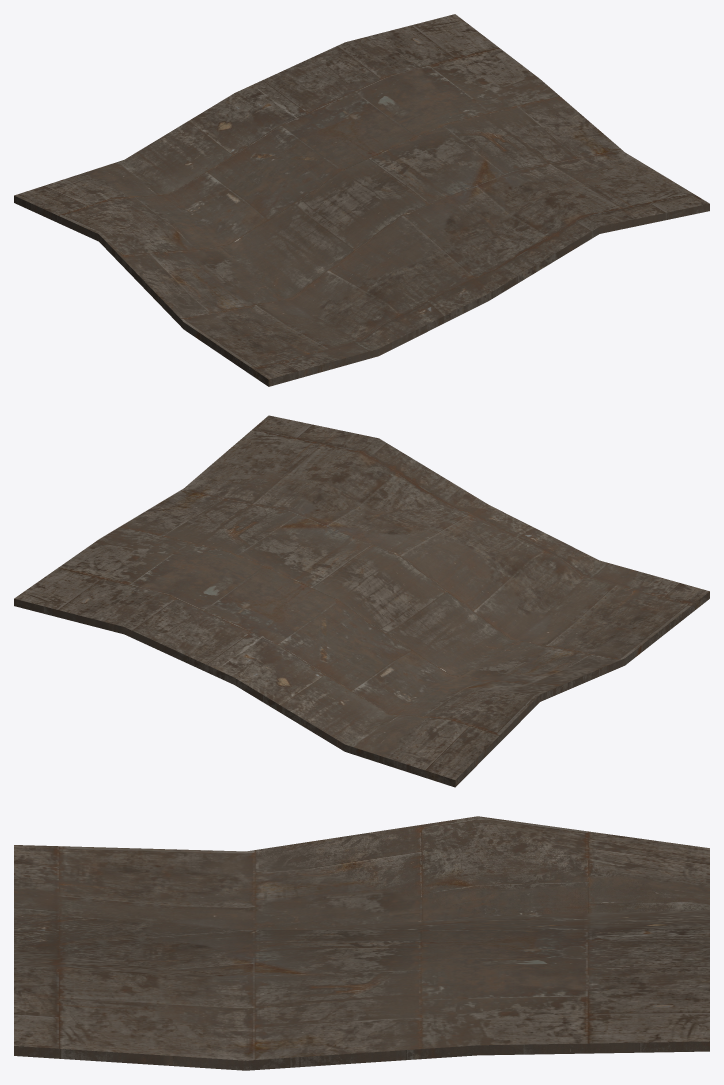
File: scrapmetal.glb
The picture shows the model from 3 angles, top to bottom: view 1: azimuth 30°, elevation 25°; view 2: azimuth 150°, elevation 25°; view 3: azimuth 270°, elevation 25°; orthographic projection. The views are drawn at different scales.
Visible parts, largest first — view 1: ScrapMetal; view 2: ScrapMetal; view 3: ScrapMetal.
Boxes of the visible parts, <box> form: ScrapMetal: <box>14,14,709,386</box>; ScrapMetal: <box>14,415,709,787</box>; ScrapMetal: <box>14,816,709,1070</box>.
Size of the model in its own units: 0.5 by 0.0979 by 0.5.
Materials: 1 (1 with a texture image).
